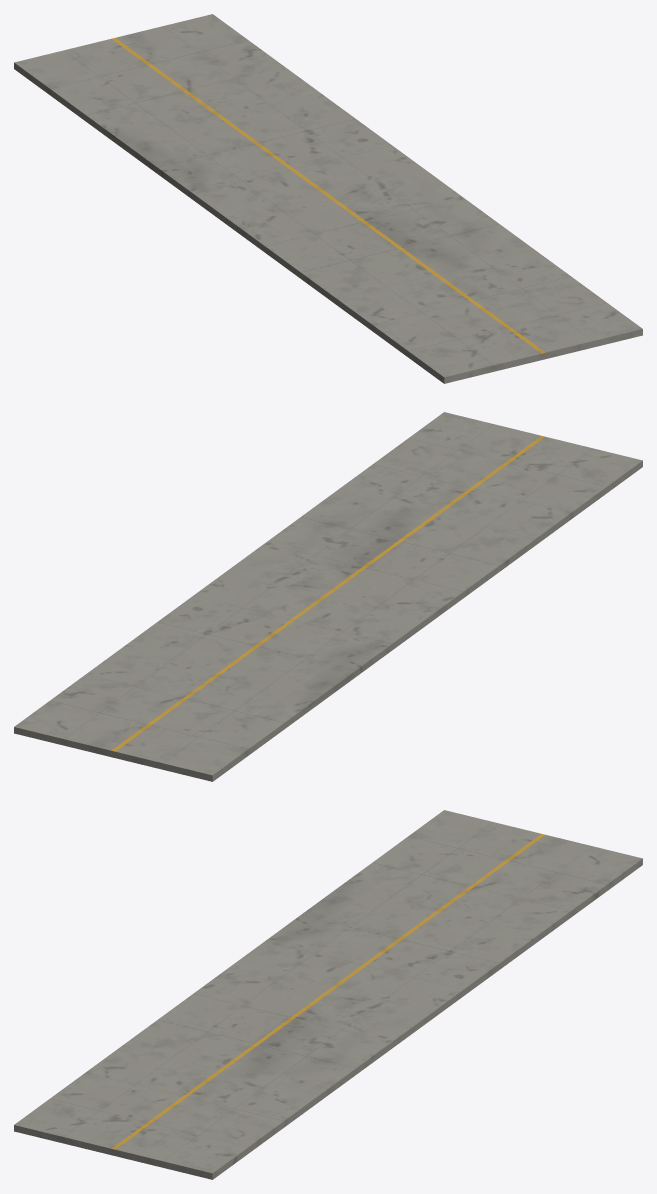
File: apron-slab.fbx
The picture shows the model from 3 angles, top to bottom: view 1: azimuth 30°, elevation 25°; view 2: azimuth 150°, elevation 25°; view 3: azimuth 330°, elevation 25°; orthographic projection.
Parts seen in each view (by area): view 1: apron-slab; view 2: apron-slab; view 3: apron-slab.
Boxes of the visible parts, x1=… form: apron-slab: x1=14, y1=14, x2=642, y2=383; apron-slab: x1=14, y1=412, x2=642, y2=781; apron-slab: x1=14, y1=810, x2=642, y2=1179.
Size of the model in its own units: 64 by 2 by 240.
Materials: 1 (1 with a texture image).
